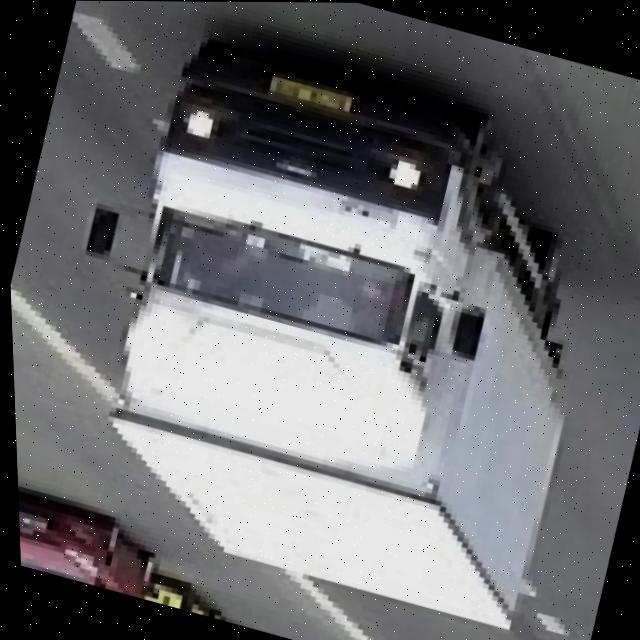truck: (7, 17, 640, 640)
